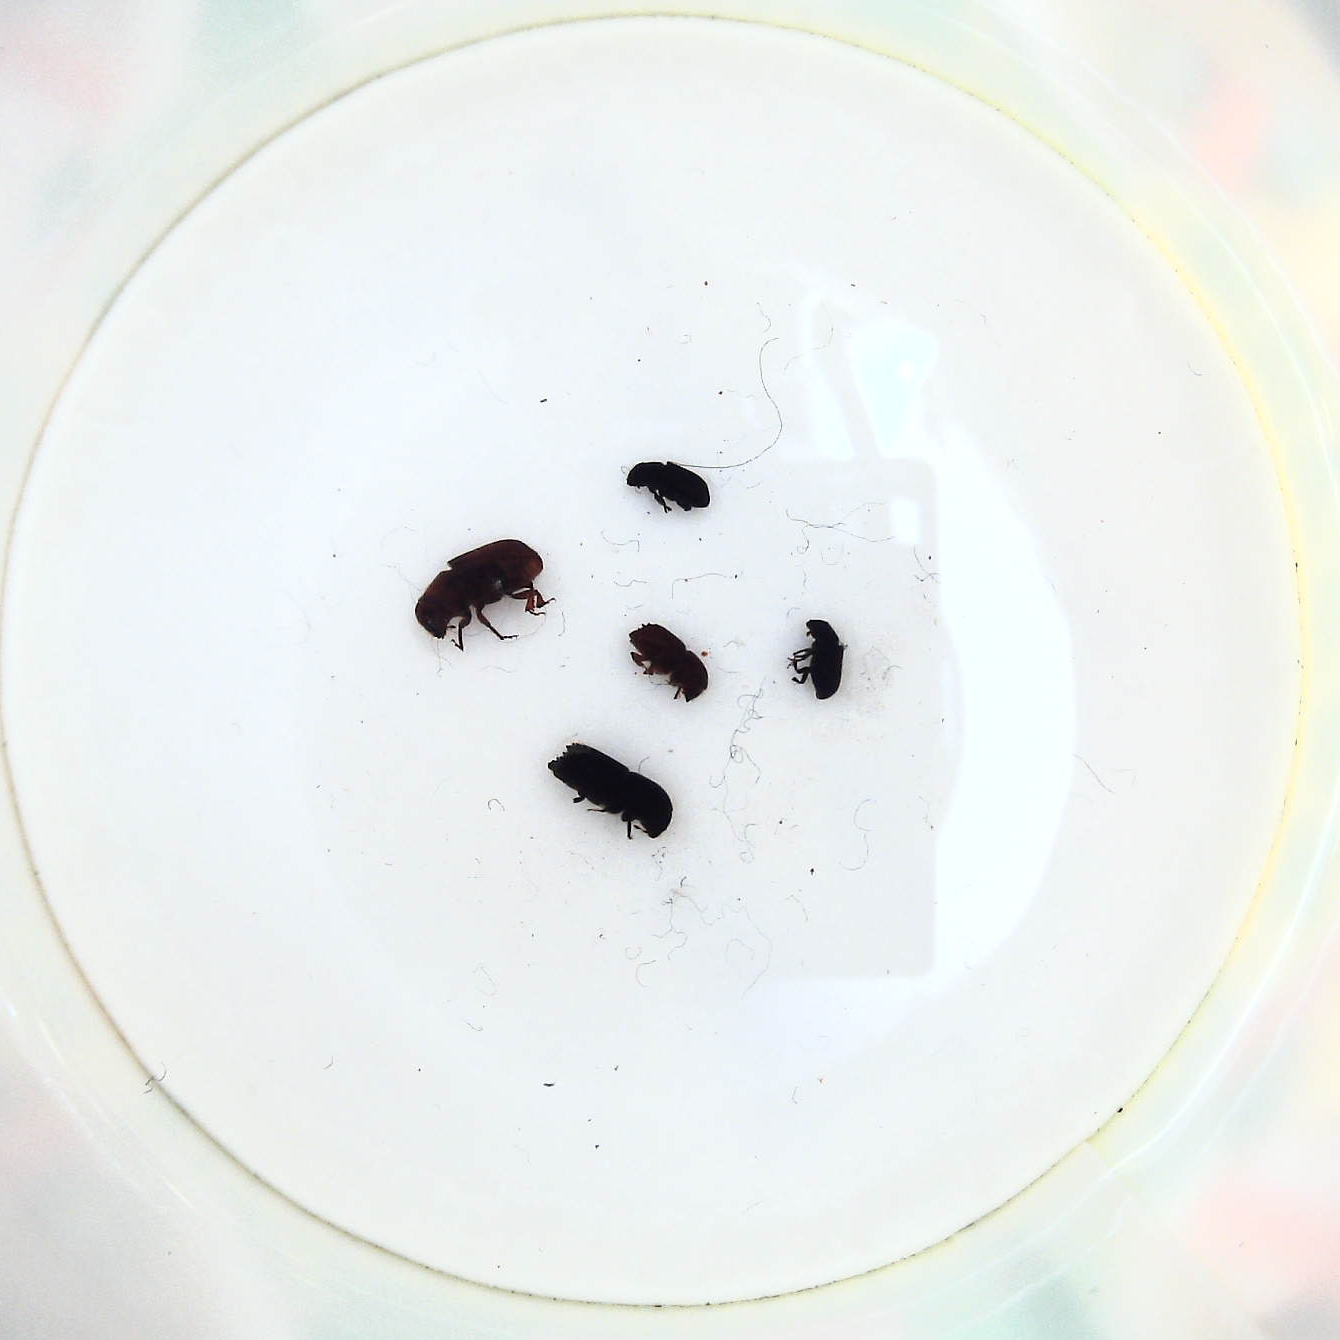Boerner: (542, 742, 676, 847)
Leconte: (415, 537, 551, 652)
armandi: (620, 456, 715, 515)
coleoptera: (791, 614, 849, 706)
linnaeus: (627, 618, 712, 706)
